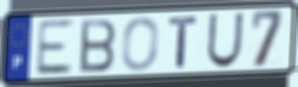7: (250, 9, 287, 70)
B: (78, 17, 118, 75)
E: (34, 18, 75, 77)
O: (120, 15, 161, 73)
T: (167, 15, 200, 70)
U: (205, 11, 246, 70)
